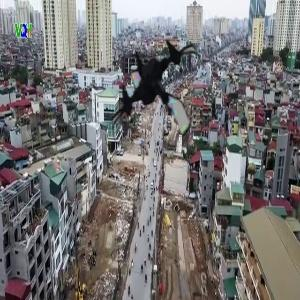drone: (99, 39, 219, 159)
